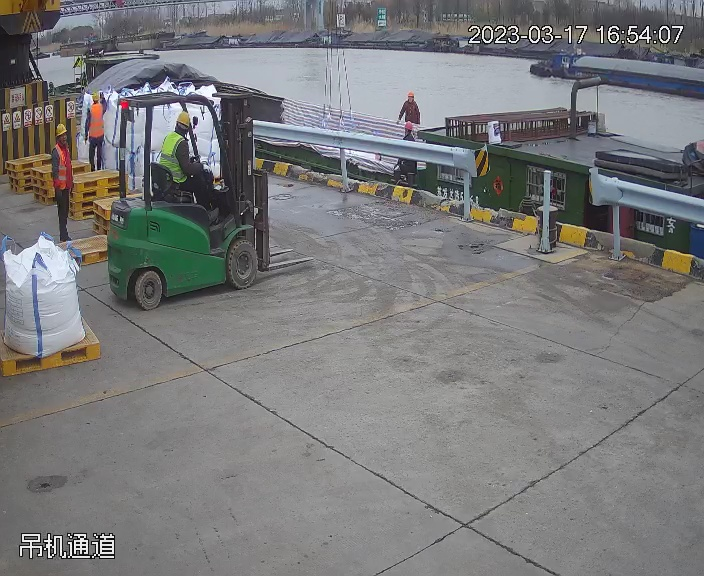head: (160, 110, 199, 158), (53, 123, 72, 162), (89, 91, 105, 119), (404, 92, 419, 113)
helmet: (175, 111, 192, 127), (53, 123, 67, 138), (403, 121, 414, 133), (90, 92, 100, 103), (407, 91, 415, 98)
people: (157, 110, 229, 221), (48, 122, 75, 242), (82, 90, 111, 172), (399, 90, 422, 125)
